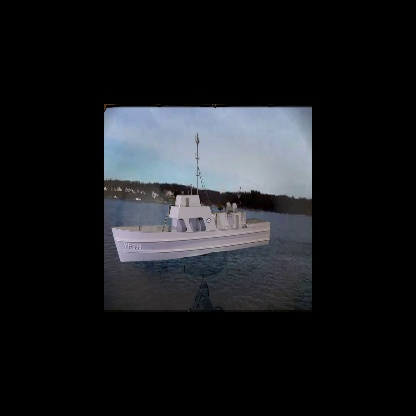YP689: (111, 130, 273, 264)
